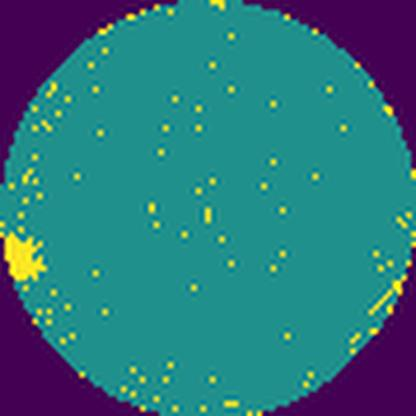Loc: (4, 232, 47, 282)
